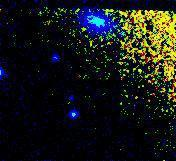star: (66, 14, 96, 44)
